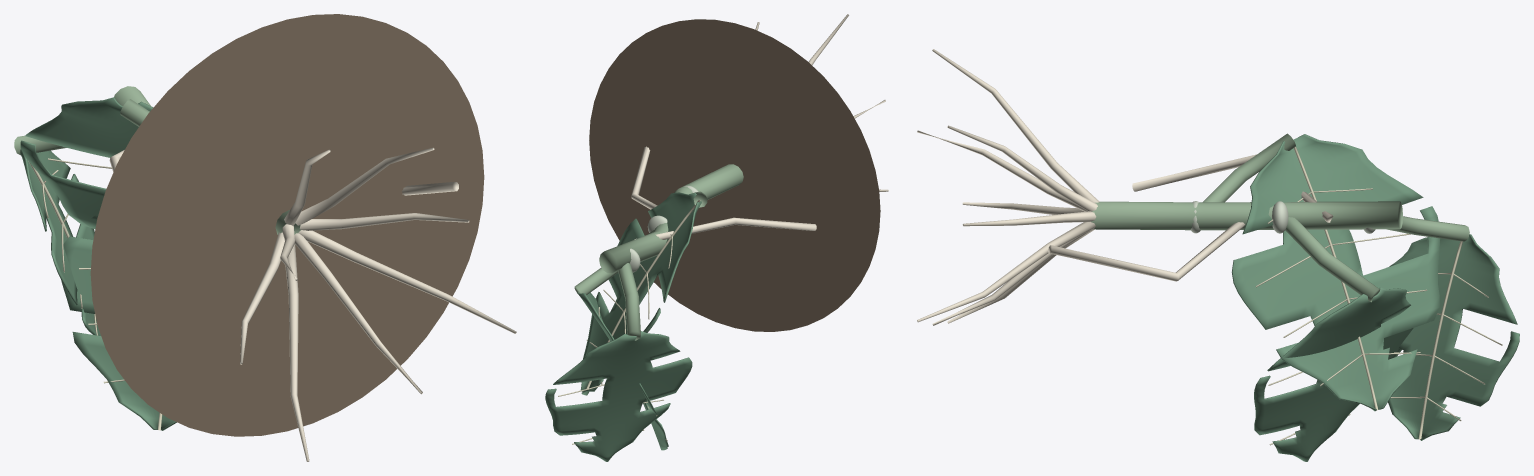
File: monstera.glb
The picture shows the model from 3 angles, left to right: view 1: azimuth 30°, elevation 25°; view 2: azimuth 150°, elevation 25°; view 3: azimuth 270°, elevation 25°; orthographic projection. The views are drawn at different scales.
Parts seen in each view (by area): view 1: Part_Soil__soil, Part_Leaf__blade0, Part_Leaf__blade1, Part_Leaf__blade2, Part_Roots__rt7, Part_Roots__rt5, Part_Roots__rt6, Part_Roots__rt0, Part_Roots__rt1, Part_Roots__rt4, Part_Roots__rt2, Part_Stem__stem (+1 smaller); view 2: Part_Soil__soil, Part_Leaf__blade2, Part_Leaf__blade0, Part_Stem__stem, Part_AerialRoots__aerial1, Part_Petiole__pet2, Part_Leaf__blade1, Part_AerialRoots__aerial0, Part_Petiole__pet1, Part_Vein__vn0mid; view 3: Part_Leaf__blade0, Part_Leaf__blade2, Part_Leaf__blade1, Part_Stem__stem, Part_AerialRoots__aerial0, Part_Petiole__pet1, Part_Roots__rt2, Part_Petiole__pet0, Part_Roots__rt7, Part_Roots__rt1, Part_AerialRoots__aerial1, Part_Petiole__pet2 (+6 smaller).
Part boxes in pixels (x1,y1,x2,y2): Part_Soil__soil: (90,14,484,436); Part_Leaf__blade0: (20,97,153,228); Part_Leaf__blade1: (61,215,176,430); Part_Leaf__blade2: (20,149,100,335); Part_Roots__rt7: (298,230,516,333); Part_Roots__rt5: (285,244,309,461); Part_Roots__rt6: (294,233,422,394); Part_Roots__rt0: (299,213,469,230); Part_Roots__rt1: (295,147,434,225); Part_Roots__rt4: (240,232,284,364); Part_Roots__rt2: (284,149,330,225); Part_Stem__stem: (114,86,300,234); Part_Soil__soil: (589,19,880,331); Part_Leaf__blade2: (545,331,692,461); Part_Leaf__blade0: (580,192,701,395); Part_Stem__stem: (599,164,743,273); Part_AerialRoots__aerial1: (634,217,816,239); Part_Petiole__pet2: (618,263,640,340); Part_Leaf__blade1: (577,292,668,450); Part_AerialRoots__aerial0: (631,146,657,209); Part_Petiole__pet1: (574,230,654,294); Part_Vein__vn0mid: (586,200,700,388); Part_Leaf__blade0: (1231,134,1440,411); Part_Leaf__blade2: (1388,234,1519,440); Part_Leaf__blade1: (1254,287,1413,461); Part_Stem__stem: (1091,201,1402,230); Part_AerialRoots__aerial0: (1048,222,1244,281); Part_Petiole__pet1: (1285,217,1380,302); Part_Roots__rt2: (932,49,1099,202); Part_Petiole__pet0: (1203,133,1295,202); Part_Roots__rt7: (917,221,1095,322); Part_Roots__rt1: (947,125,1097,211); Part_AerialRoots__aerial1: (1132,154,1333,222); Part_Petiole__pet2: (1387,216,1469,241).
Bounding box in the file's own units: 1.44 × 1.71 × 2.15.
